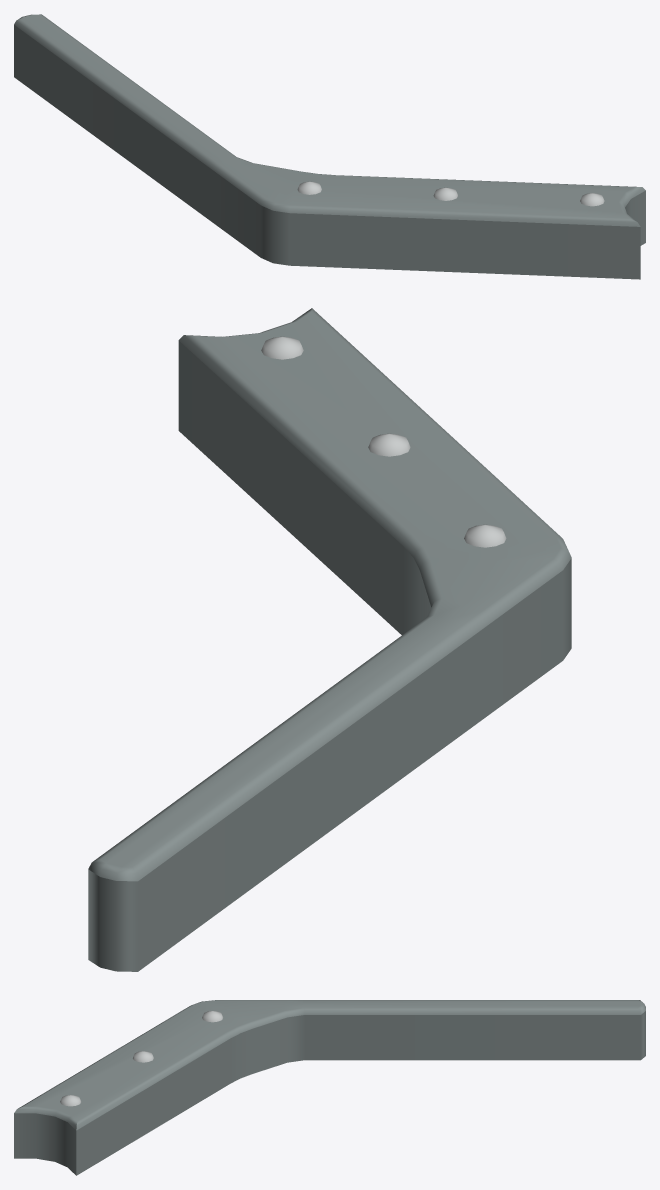
The model's file is CornerLeft.glb.
3 renders of one model, top to bottom at view 1: azimuth 30°, elevation 25°; view 2: azimuth 150°, elevation 25°; view 3: azimuth 270°, elevation 25°, orthographic. The views are drawn at different scales.
Visible parts, largest first — view 1: CornerLeft; view 2: CornerLeft; view 3: CornerLeft.
Boxes of the visible parts, box(x1,y1,x2,y2) form: CornerLeft: box(14, 14, 645, 279); CornerLeft: box(88, 308, 571, 971); CornerLeft: box(14, 1000, 645, 1175).
Bounding box in the file's own units: 0.14 × 0.0289 × 0.2924.
Materials: 1 (1 with a texture image).
